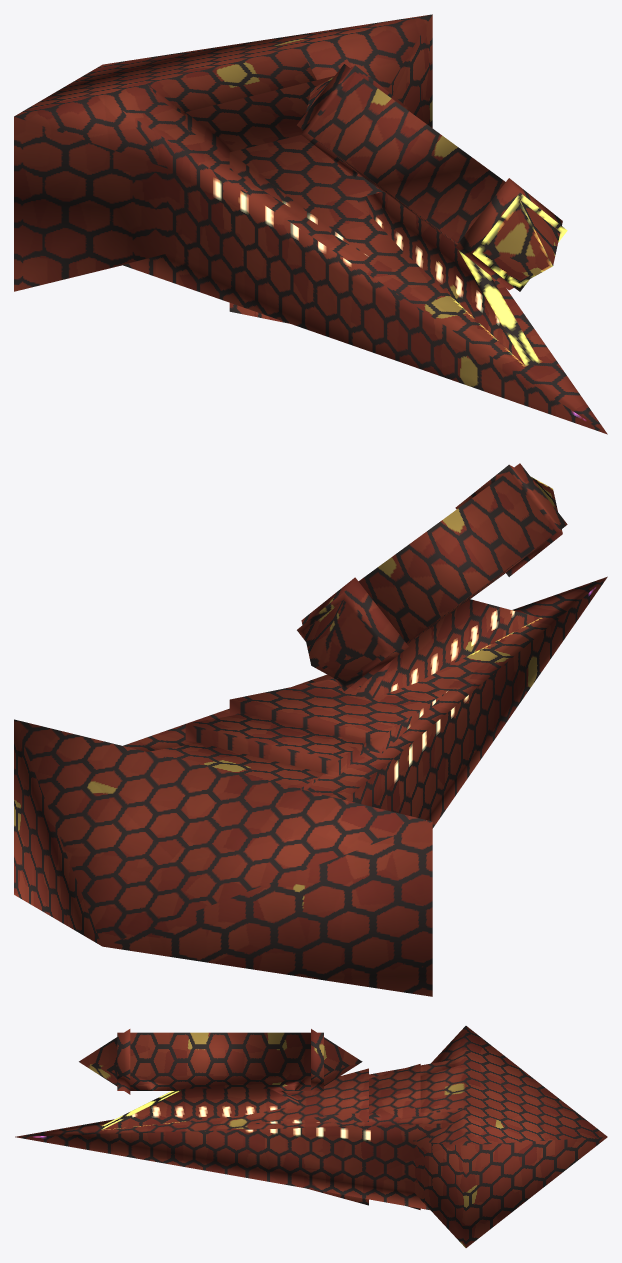
File: zandrax_frigate.glb
3 renders of one model, top to bottom at view 1: azimuth 30°, elevation 25°; view 2: azimuth 150°, elevation 25°; view 3: azimuth 270°, elevation 25°, orthographic. The views are drawn at different scales.
Parts seen in each view (by area): view 1: ZandraxFrigate; view 2: ZandraxFrigate; view 3: ZandraxFrigate.
Part boxes in pixels (x1,y1,x2,y2): ZandraxFrigate: (14, 14, 607, 434); ZandraxFrigate: (14, 463, 607, 996); ZandraxFrigate: (15, 1026, 607, 1247).
Size of the model in its own units: 22 by 13.66 by 46.
1 material, 1 textured.
